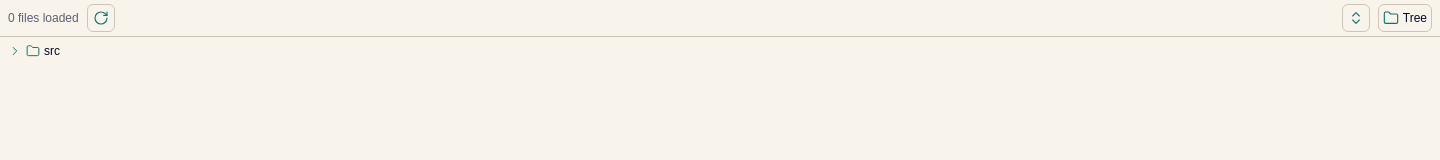
Test: sidebar summaries include changed descendants before their native directory page is loaded
Expected: the text "0 files loaded" is shown, [8,11,79,25]
Hover over the button with aria-label "Expand src" at coordinates (15, 51), box [4,37,1436,65]
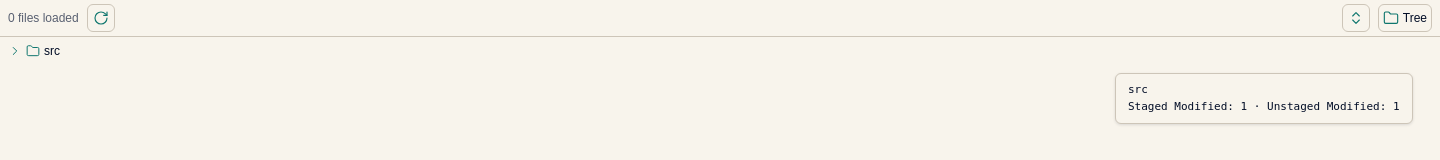
Now the tooltip shows "Staged Modified: 1", box [1128,100,1400,112]
Now the tooltip shows "Unstaged Modified: 1", box [1128,100,1400,112]
